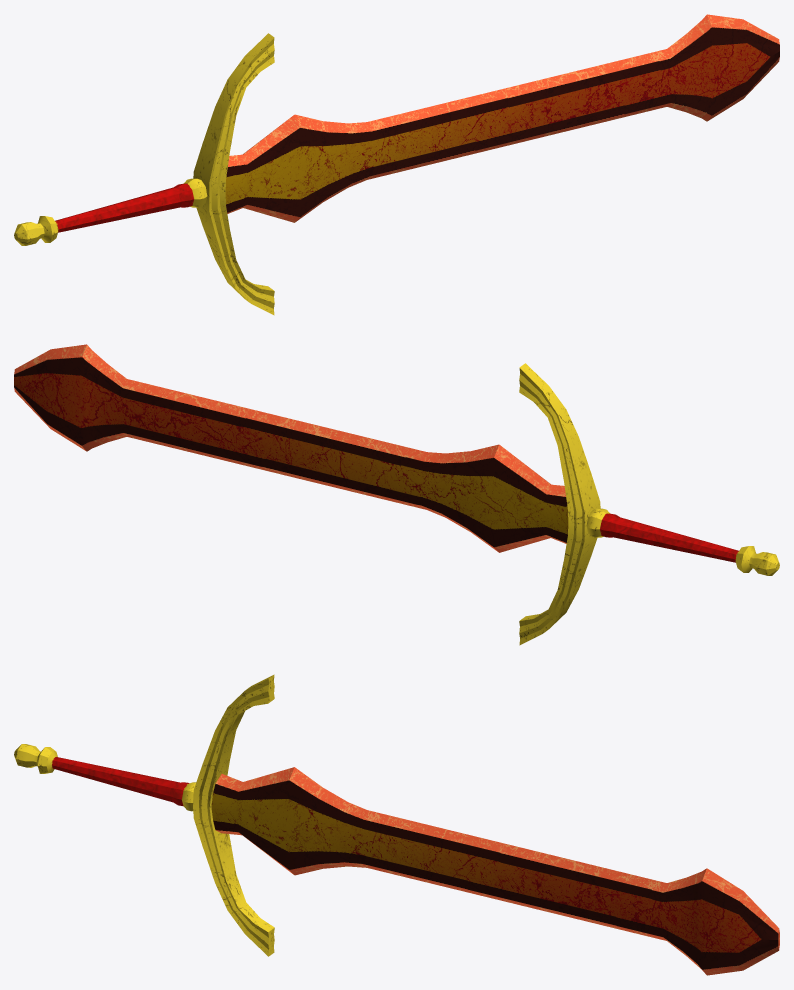
The model's file is brillante.glb.
The picture shows the model from 3 angles, top to bottom: view 1: azimuth 30°, elevation 25°; view 2: azimuth 150°, elevation 25°; view 3: azimuth 330°, elevation 25°; orthographic projection.
Visible parts, largest first — view 1: Cube; view 2: Cube; view 3: Cube.
Boxes of the visible parts, x1,y1,x2,y2 form: Cube: [14, 14, 779, 315]; Cube: [14, 344, 779, 645]; Cube: [14, 674, 779, 975].
Size of the model in its own units: 1.79 by 0.6221 by 0.0666.
Materials: 5 (5 with a texture image).
